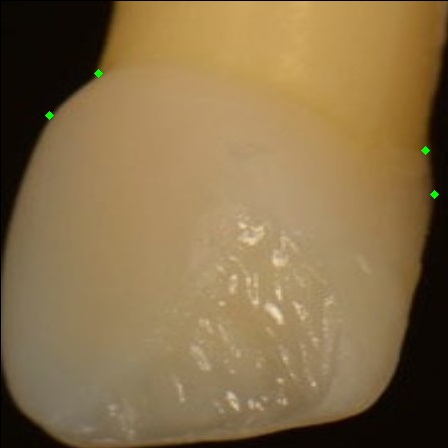coin_1: (425, 150, 445, 170)
coin_2: (434, 194, 448, 214)
coin_3: (98, 73, 118, 93)
coin_4: (49, 115, 69, 135)
